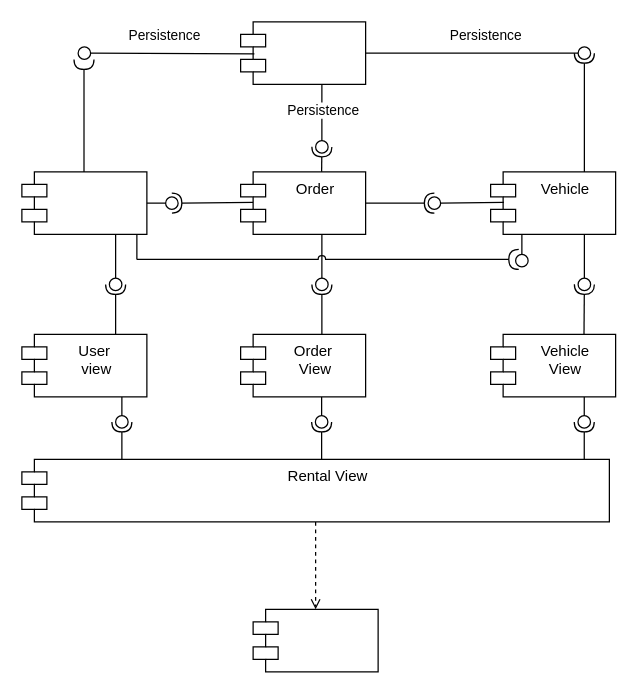
Some shapes in this 638 by 694 pixel diagram are drawn without their labels. Here are the shapes that lost their labels. From the top down, the centre of each, then its label:
At point (302, 52): "Rental Database".
At point (84, 202): "User".
At point (315, 640): "Client".
